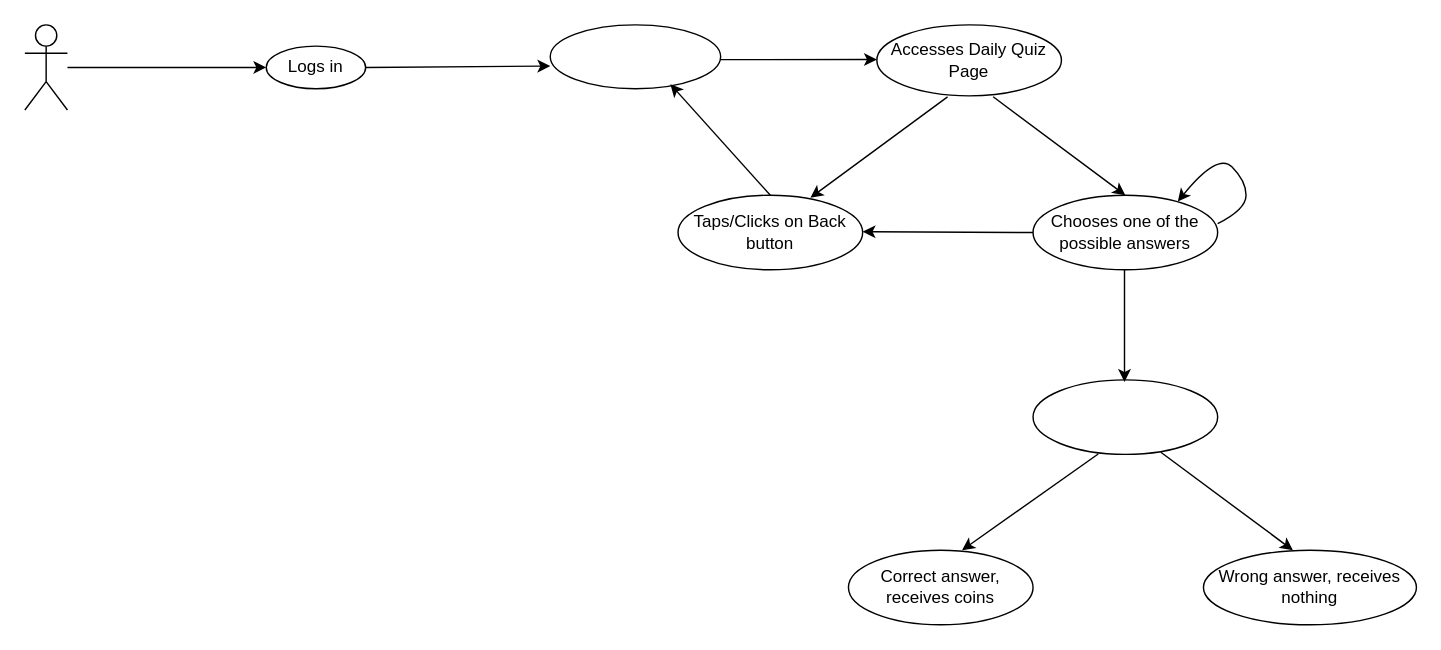
The diagram is 1441 pixels wide and 650 high, and some of its shapes have lost their labels. The box of each missing label's shape, as (x1, y1, x2, y2) in pixels:
Acceses Home Page: (549, 23, 721, 89)
Taps/Clicks on Submit button: (1032, 378, 1218, 454)
User: (23, 23, 67, 110)
